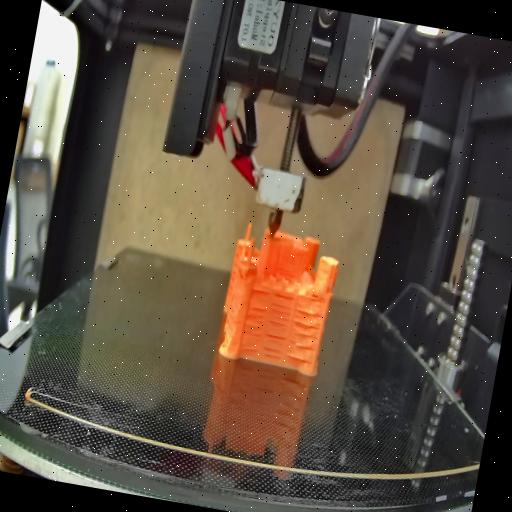cracks: (286, 308, 322, 366), (238, 302, 268, 354), (266, 291, 294, 327), (260, 334, 286, 360), (308, 284, 328, 303), (250, 284, 274, 298)
